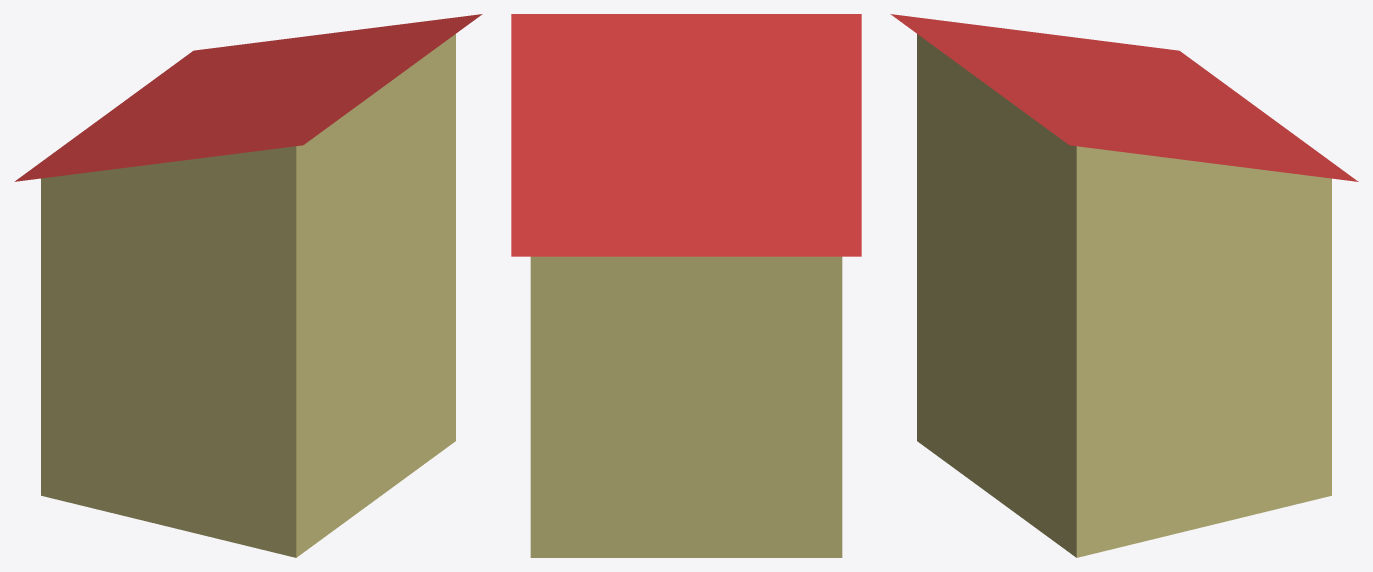
3 renders of one model, left to right at view 1: azimuth 30°, elevation 25°; view 2: azimuth 150°, elevation 25°; view 3: azimuth 270°, elevation 25°, orthographic. The views are drawn at different scales.
Size of the model in its own units: 6.03 by 5.91 by 5.9.
